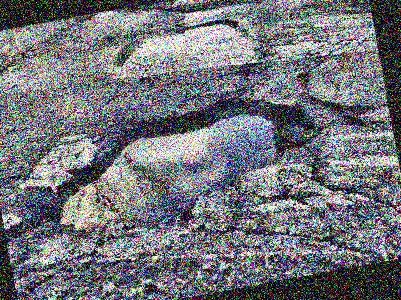pothole: (37, 81, 333, 249), (179, 12, 242, 37)
